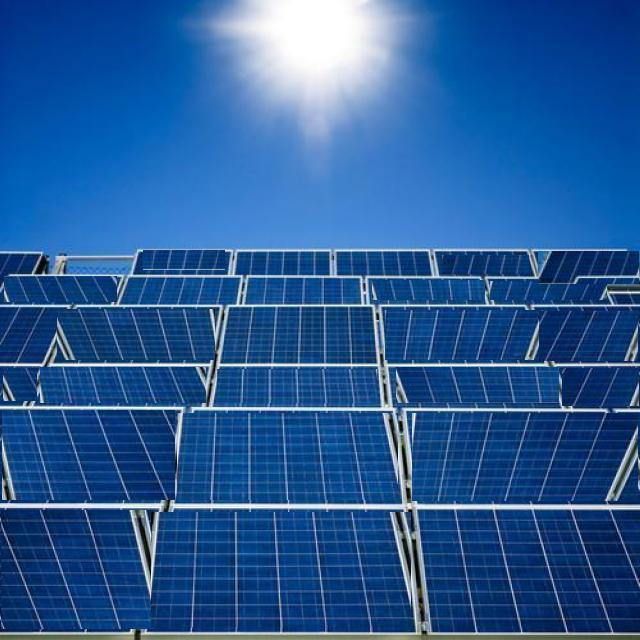Non Defective: (152, 512, 411, 627), (422, 512, 638, 629), (412, 414, 638, 501), (178, 413, 398, 500), (2, 510, 154, 629), (2, 410, 175, 500), (58, 309, 215, 360), (224, 308, 374, 361), (386, 310, 543, 360), (396, 367, 559, 403), (40, 368, 206, 403), (218, 370, 377, 403), (540, 311, 638, 361), (3, 308, 63, 362), (539, 252, 639, 284), (562, 369, 640, 406), (4, 277, 117, 302), (124, 279, 239, 301), (248, 280, 358, 302), (372, 281, 485, 300), (492, 282, 607, 300), (442, 255, 529, 274), (143, 251, 225, 270), (240, 255, 328, 272), (342, 256, 428, 271), (3, 368, 37, 401)
